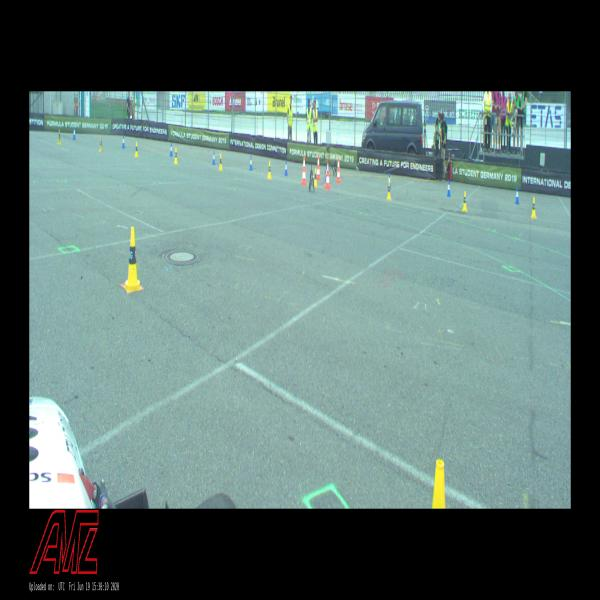blue_cone: (515, 187, 520, 204), (284, 160, 288, 176), (447, 180, 451, 196), (249, 156, 253, 170), (212, 151, 216, 164), (388, 173, 391, 190), (169, 144, 172, 157), (122, 136, 125, 148), (324, 166, 326, 182), (73, 127, 75, 140)
large_orange_cone: (301, 155, 307, 185), (325, 160, 330, 189), (336, 158, 341, 183), (317, 156, 320, 180)
yellow_cone: (124, 227, 142, 292), (432, 460, 446, 508), (530, 197, 538, 218), (462, 191, 468, 211), (386, 181, 392, 200), (267, 161, 272, 179), (314, 168, 318, 187), (174, 147, 178, 164), (218, 153, 222, 170), (134, 142, 138, 157), (99, 137, 103, 152), (58, 129, 61, 144)
